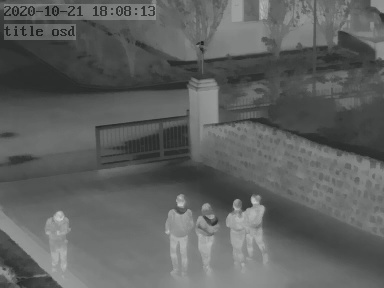person: (165, 194, 193, 277), (46, 203, 73, 276), (196, 201, 219, 277), (244, 193, 266, 263), (224, 197, 245, 266)
